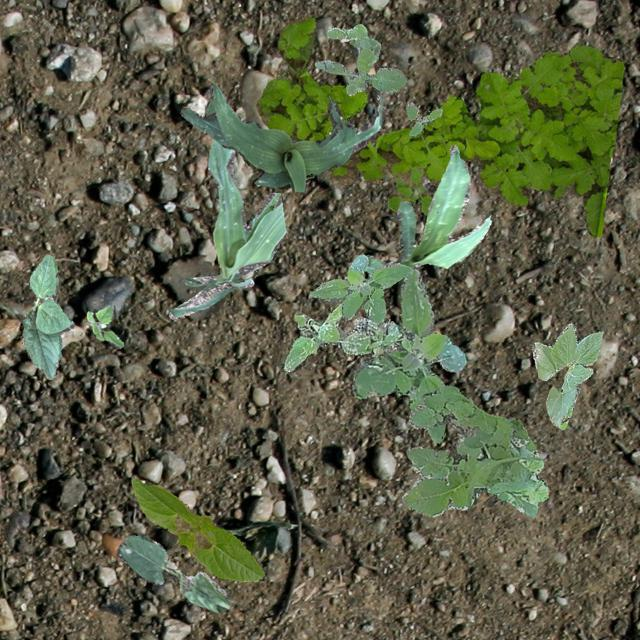crop: (180, 81, 384, 190), (168, 138, 284, 318), (364, 144, 491, 272), (132, 477, 264, 581), (116, 534, 230, 612), (530, 322, 602, 428), (22, 254, 74, 378)
weed: (256, 13, 624, 236), (350, 268, 466, 442), (398, 384, 548, 516), (282, 302, 409, 371), (308, 254, 412, 322), (314, 22, 406, 94), (386, 164, 432, 214), (86, 304, 122, 348), (404, 101, 442, 135)
